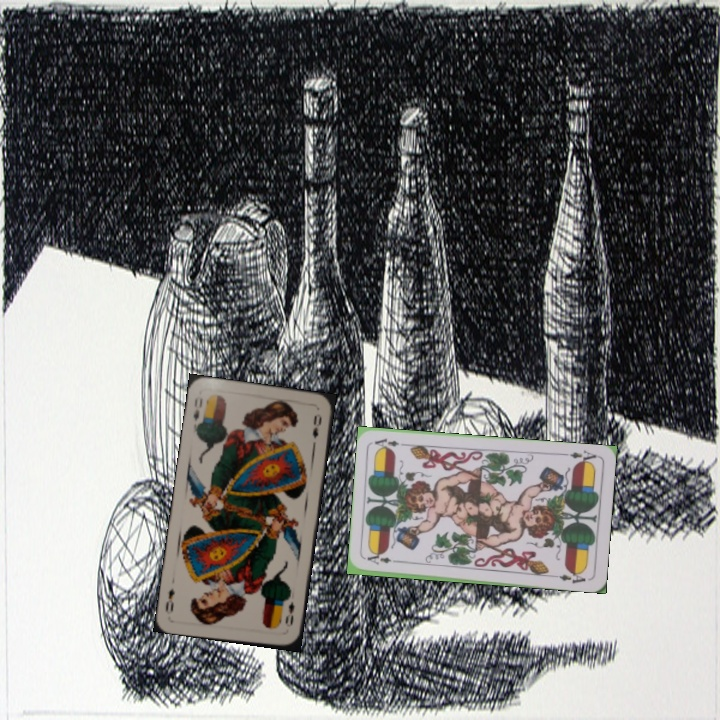EA: (559, 446, 600, 467), (363, 552, 403, 567)
EO: (281, 597, 297, 629), (189, 394, 205, 424)
